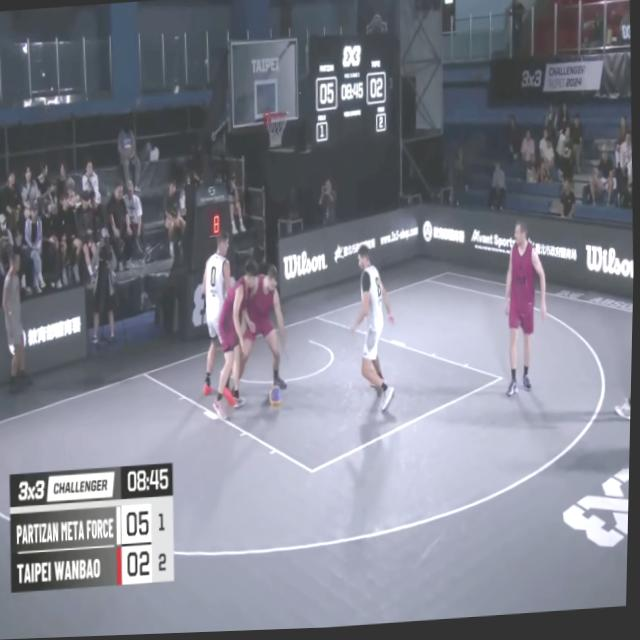ball: (266, 385, 285, 416)
hoop: (262, 112, 290, 151)
player: (226, 262, 293, 409), (348, 244, 402, 421), (212, 261, 270, 425), (498, 224, 549, 403), (195, 231, 239, 411), (609, 227, 636, 426)
